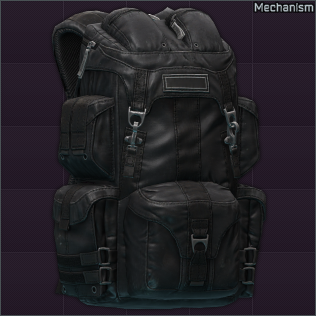Oakley Mechanism heavy duty backpack Black: (0, 0, 316, 316)
